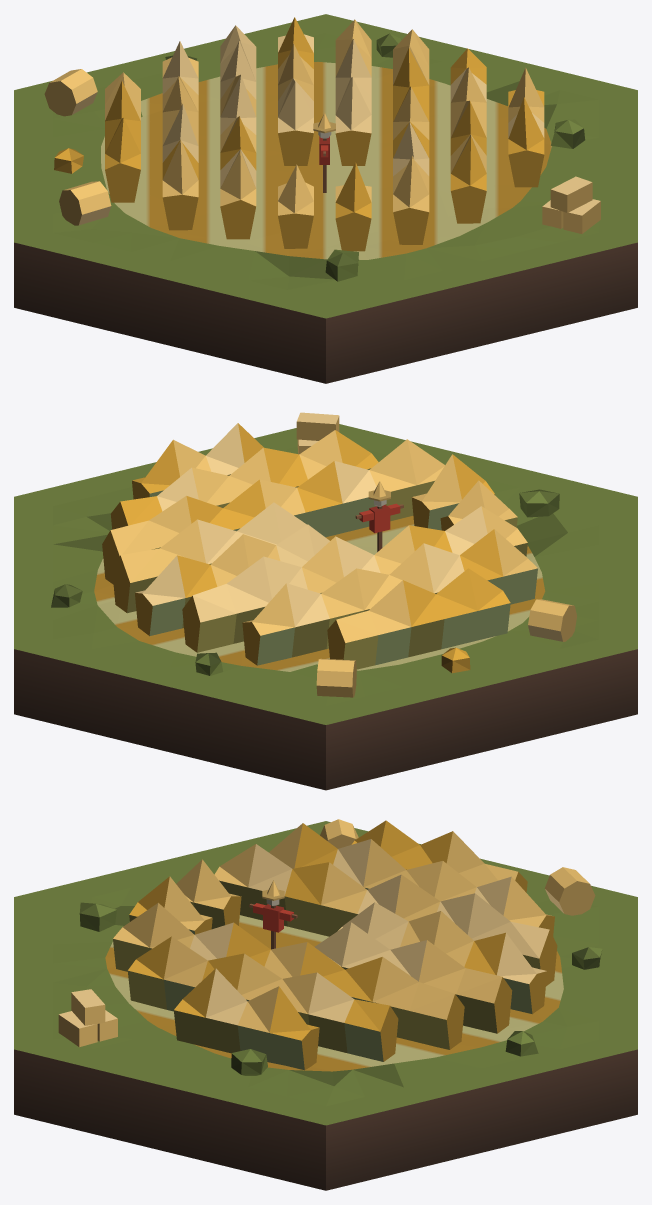
File: SM_Tile_Cornfield_A.fbx
3 renders of one model, top to bottom at view 1: azimuth 30°, elevation 25°; view 2: azimuth 150°, elevation 25°; view 3: azimuth 270°, elevation 25°, orthographic.
Parts seen in each view (by area): view 1: SM_Tile_Cornfield_A; view 2: SM_Tile_Cornfield_A; view 3: SM_Tile_Cornfield_A.
Boxes of the visible parts, box(x1,y1,x2,y2) form: SM_Tile_Cornfield_A: box(14, 14, 637, 383); SM_Tile_Cornfield_A: box(14, 412, 637, 790); SM_Tile_Cornfield_A: box(14, 819, 637, 1190).
Bounding box in the file's own units: 20 × 4.44 × 17.32.
